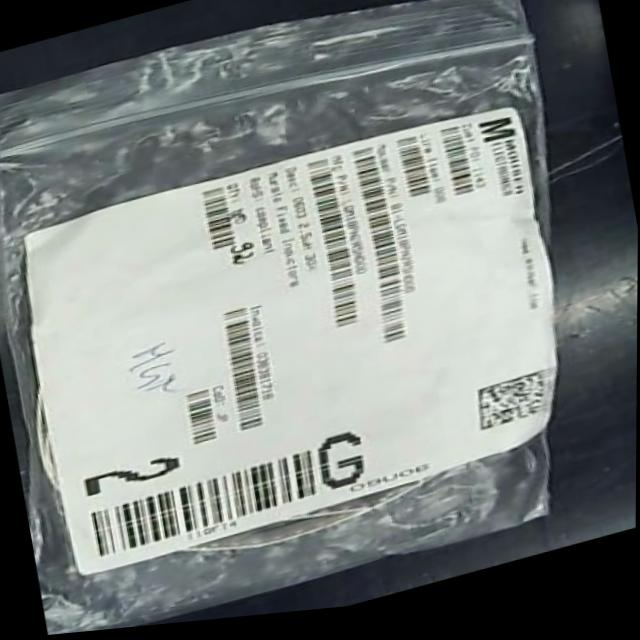datamatrix: (471, 375, 568, 446)
